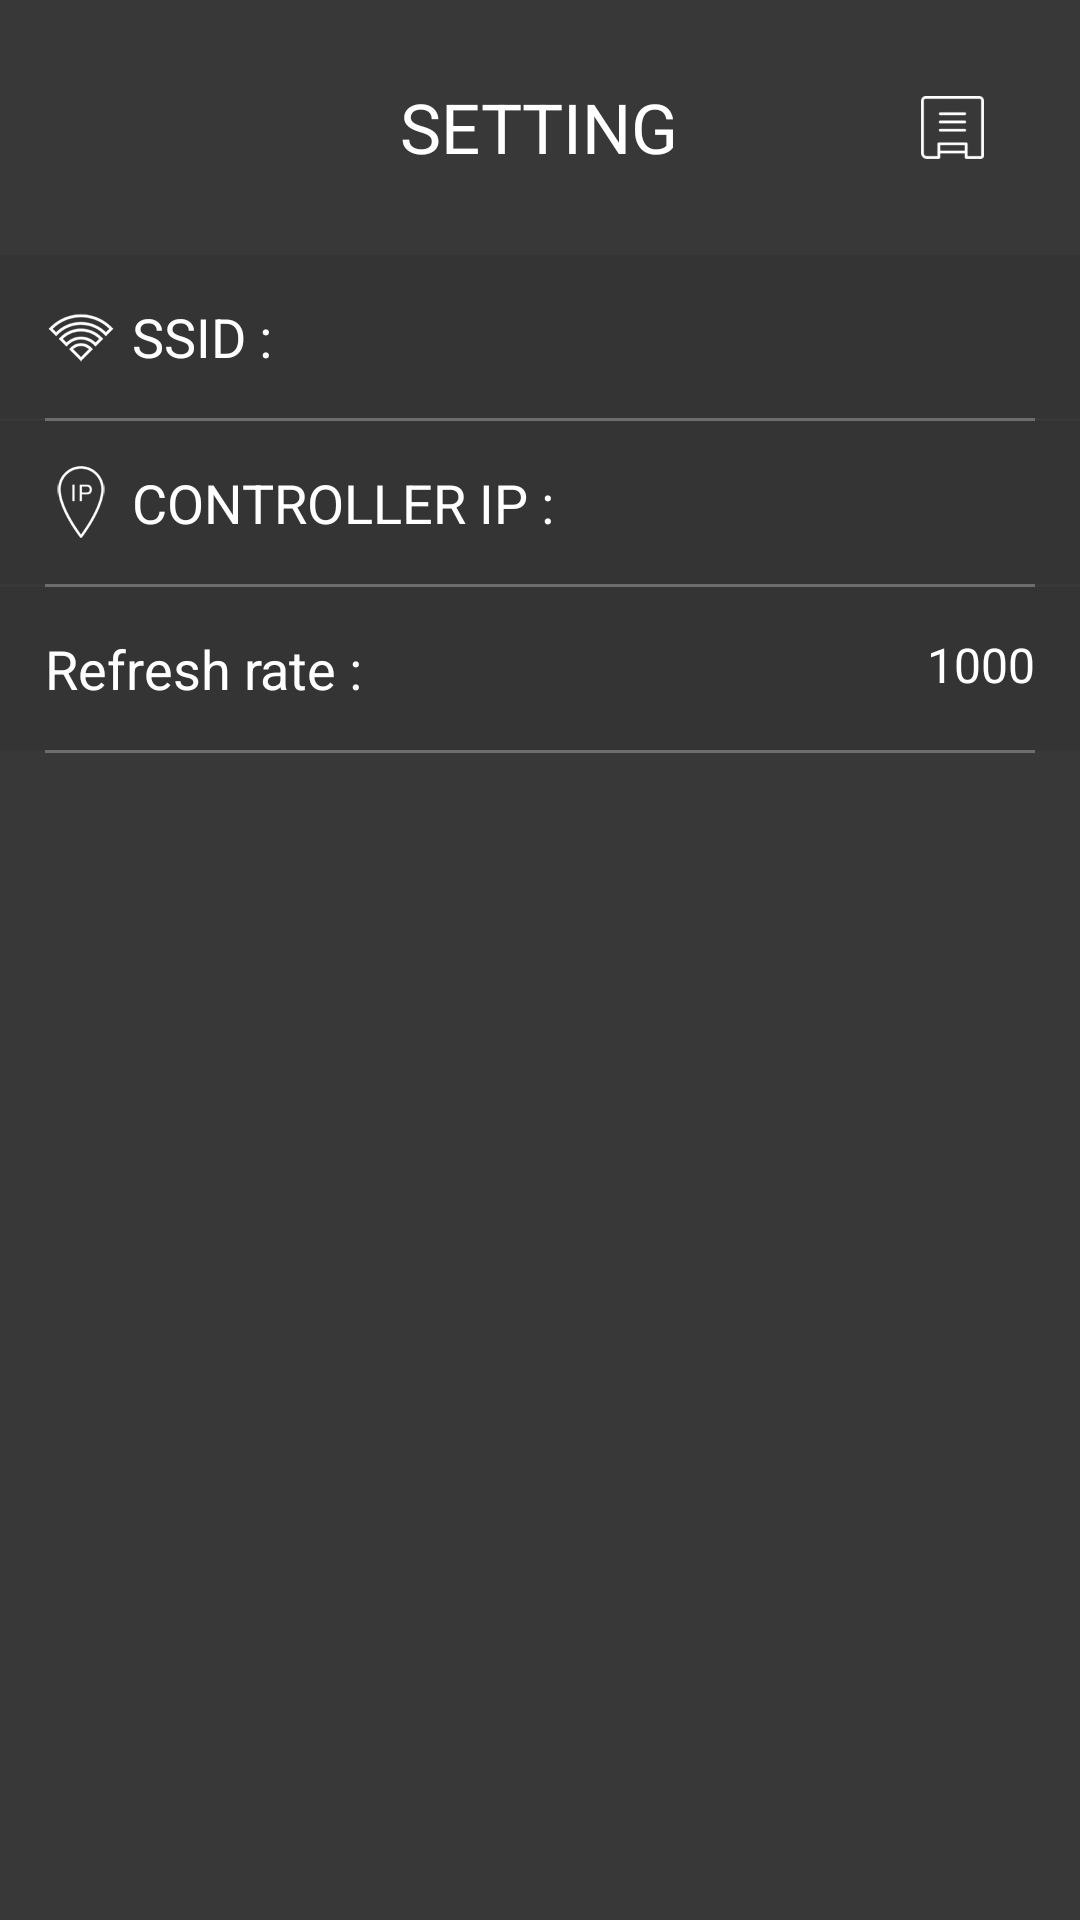

Icons on this 1080x1920 Android screen, each with its box as (x1, y1, x2, y2):
save: (921, 96, 984, 159)
